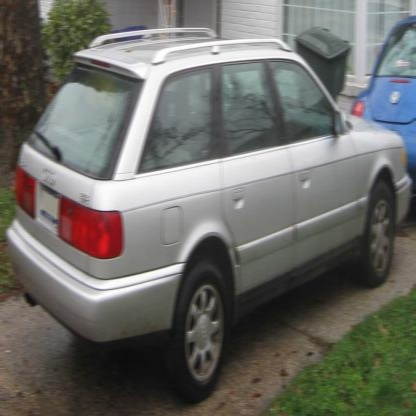Vehicle: (4, 25, 414, 403)
